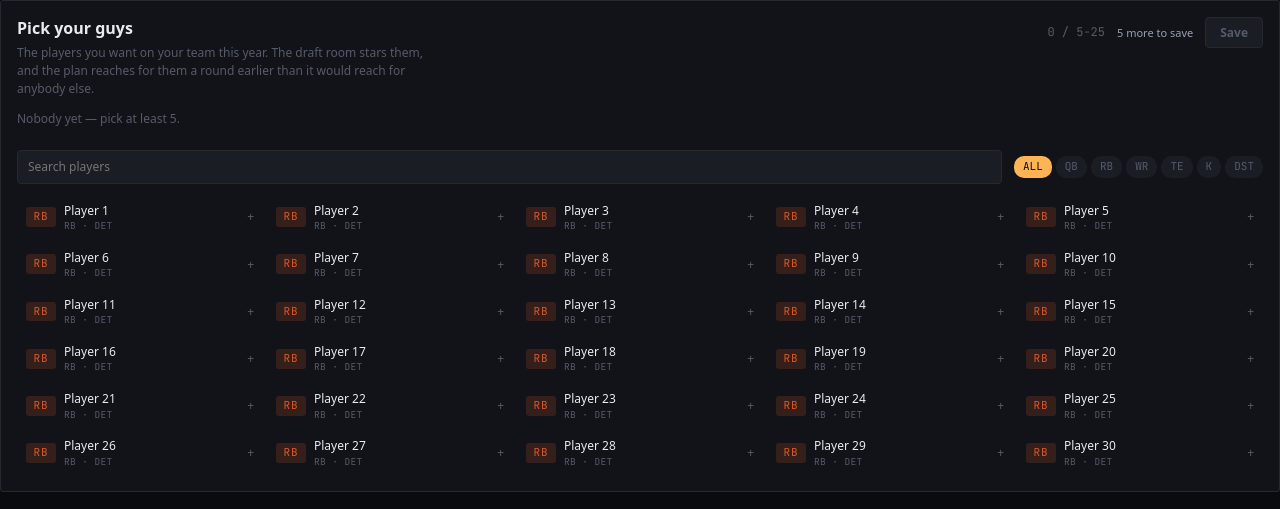
Test: four is not enough, five is
Check: the text "0 / 5-25" is shown, box left=1047, top=24, right=1105, bottom=41
Check: the button "Save" is disabled, box left=1205, top=17, right=1263, bottom=48
Click the button "RB Player 1 RB · DET +" at (140, 217), box left=17, top=196, right=263, bottom=239
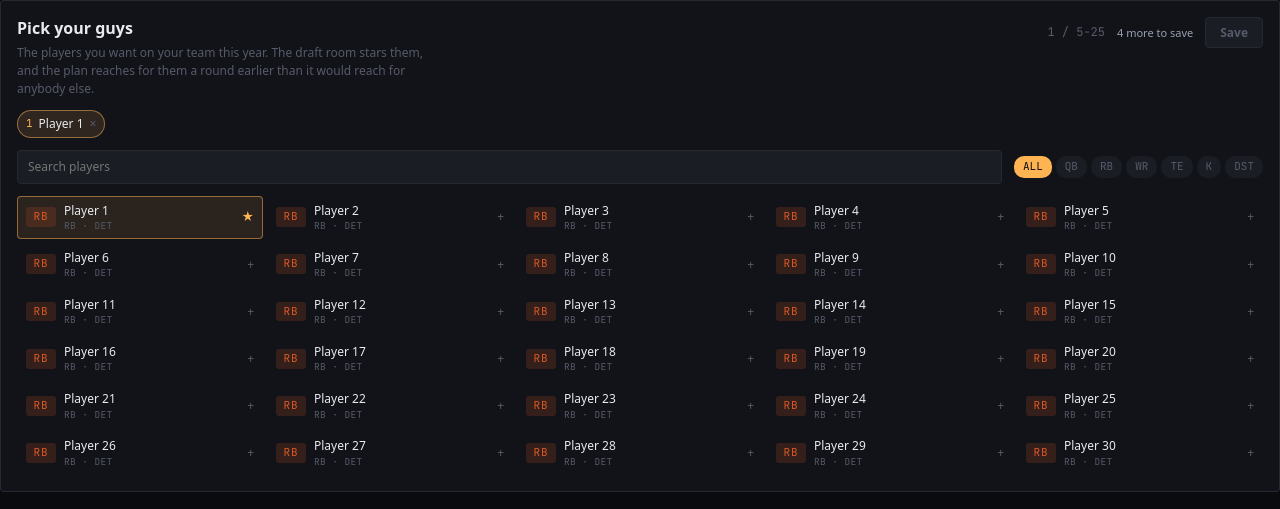
Click the button "RB Player 2 RB · DET +" at (390, 217), box left=267, top=196, right=513, bottom=239
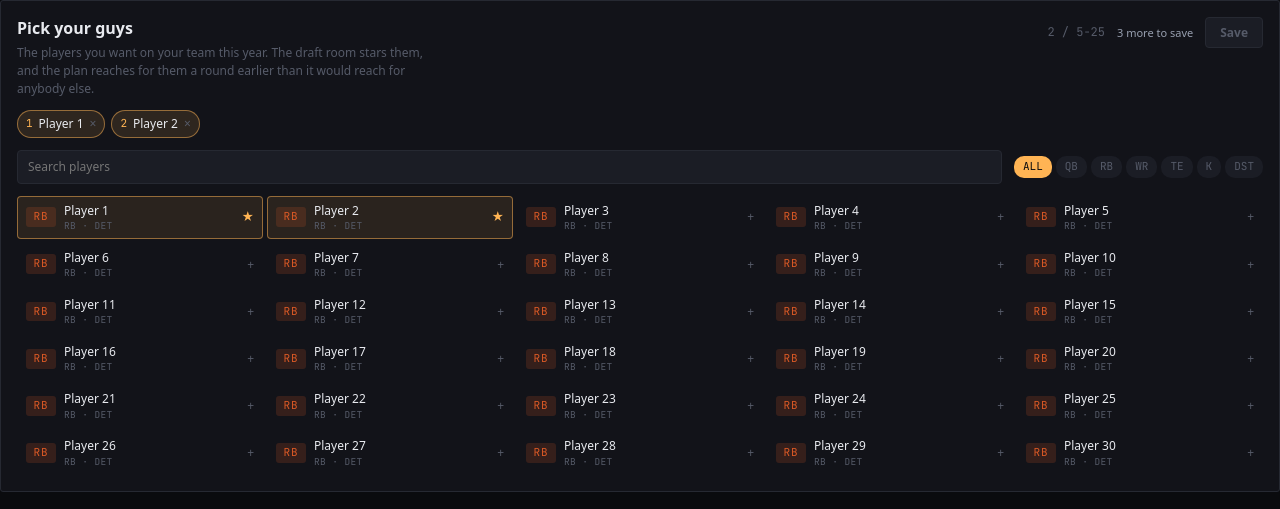
Click the button "RB Player 3 RB · DET +" at (640, 217), box left=517, top=196, right=763, bottom=239
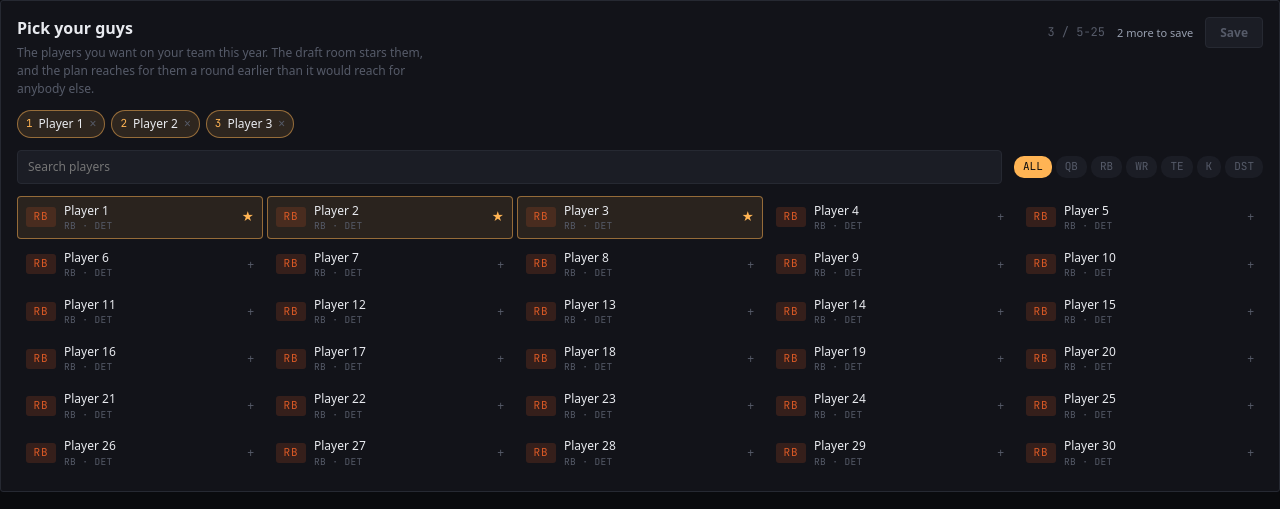
Click the button "RB Player 4 RB · DET +" at (890, 217), box left=767, top=196, right=1013, bottom=239
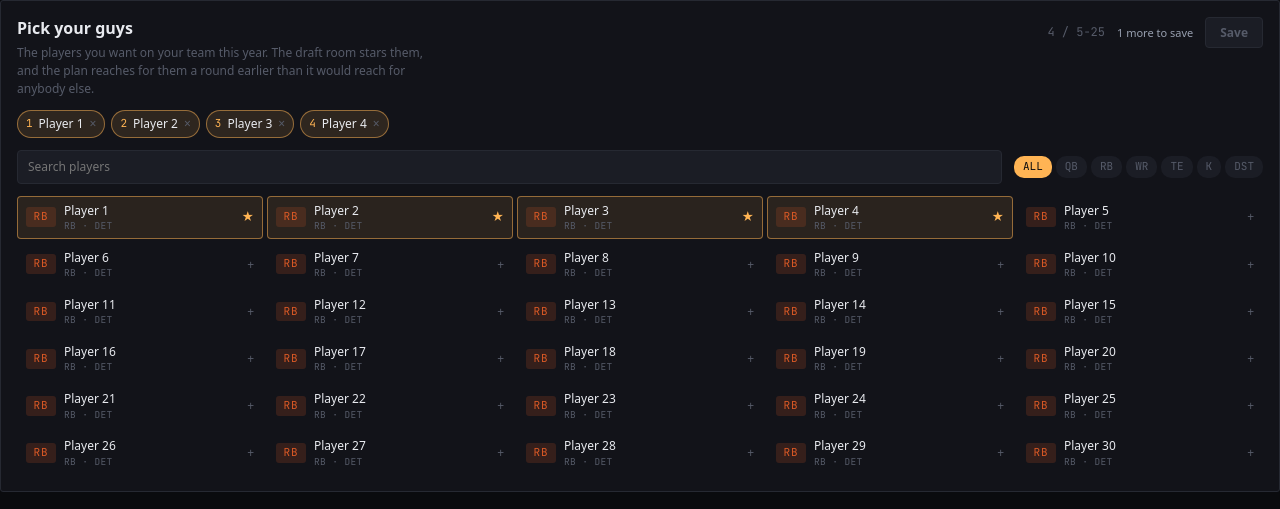
Check: the button "Save" is disabled, box left=1205, top=17, right=1263, bottom=48
Check: the text "4 / 5-25" is shown, box left=1047, top=24, right=1105, bottom=41
Click the button "RB Player 5 RB · DET +" at (1140, 217), box left=1017, top=196, right=1263, bottom=239
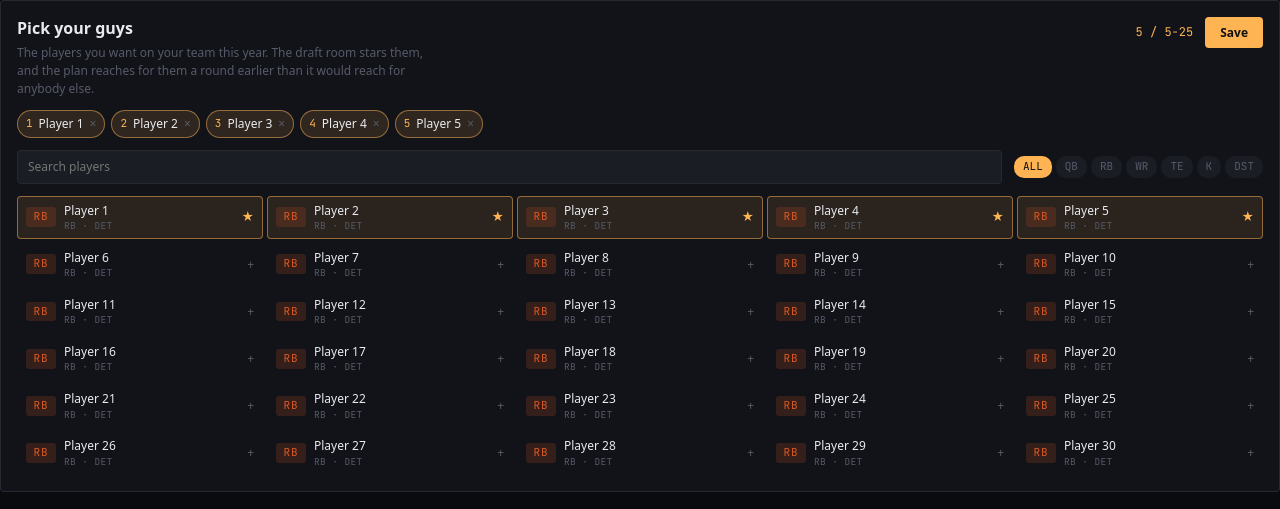
Check: the text "5 / 5-25" is shown, box left=1136, top=24, right=1193, bottom=41
Check: the button "Save" is enabled, box left=1205, top=17, right=1263, bottom=48
